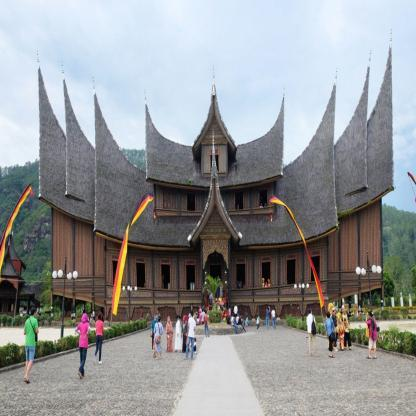Building Outline: (37, 28, 395, 324)
Dont: (269, 193, 325, 325), (174, 274, 250, 360), (110, 192, 154, 327), (52, 256, 78, 339), (325, 302, 355, 358), (355, 251, 382, 310), (306, 308, 320, 358), (150, 311, 163, 360), (128, 307, 149, 333), (166, 316, 173, 353), (266, 305, 271, 329), (271, 308, 276, 330), (256, 315, 263, 330), (262, 278, 271, 287)
Door: (210, 266, 221, 291), (262, 262, 271, 287), (161, 265, 170, 289), (136, 263, 145, 287), (186, 266, 195, 290), (311, 256, 320, 279), (237, 264, 246, 287), (287, 260, 296, 283), (113, 261, 121, 285)
Facade: (51, 170, 383, 290)
Floor: (51, 193, 384, 303), (155, 184, 275, 214)
Floor Slab: (51, 283, 383, 308), (155, 214, 275, 219), (202, 181, 227, 185)
Roof: (37, 28, 395, 250), (144, 64, 285, 191)
Top Floor: (202, 136, 227, 181)
Window: (260, 189, 268, 206), (187, 193, 195, 209), (235, 193, 243, 209), (163, 191, 171, 207), (211, 155, 218, 170)
